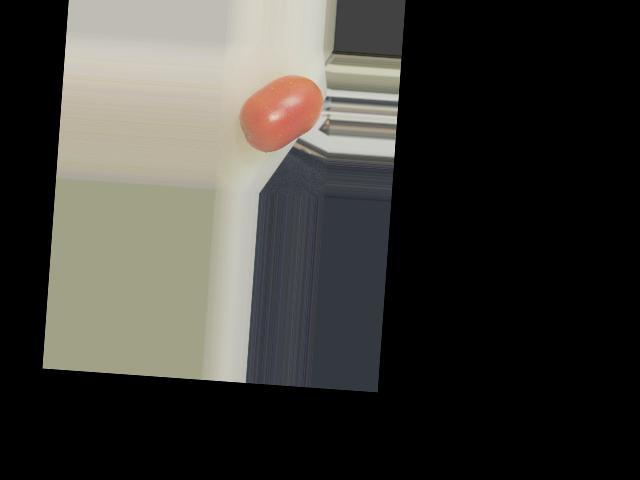tomato: (237, 71, 325, 155)
